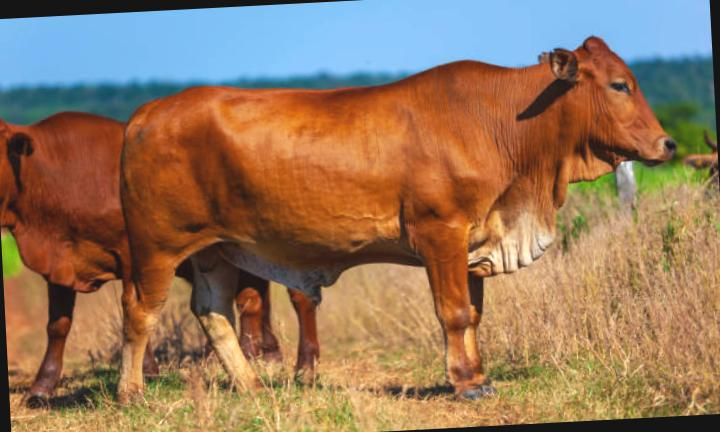Brahman: (119, 36, 675, 399), (0, 111, 130, 403), (238, 270, 281, 358), (290, 288, 319, 369)
